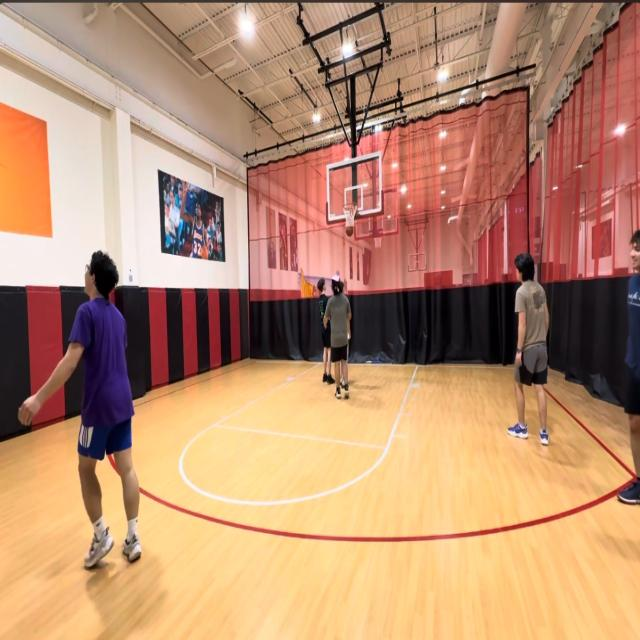Basketball: (345, 226, 353, 236)
Basketball Rim: (343, 202, 358, 226)
